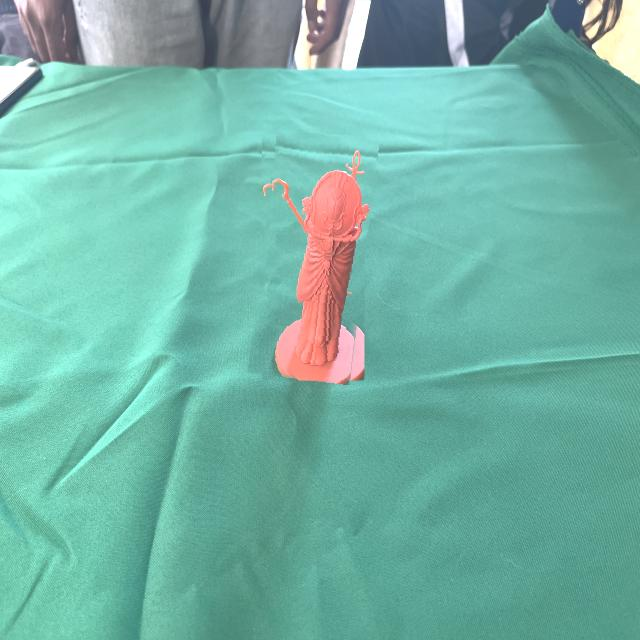amon: (255, 132, 372, 383)
